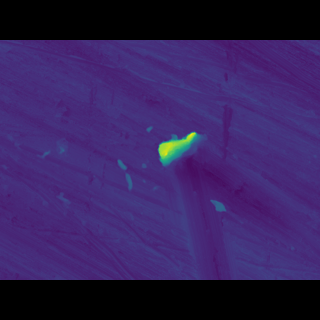Loch: (150, 134, 211, 168), (48, 141, 72, 160)
